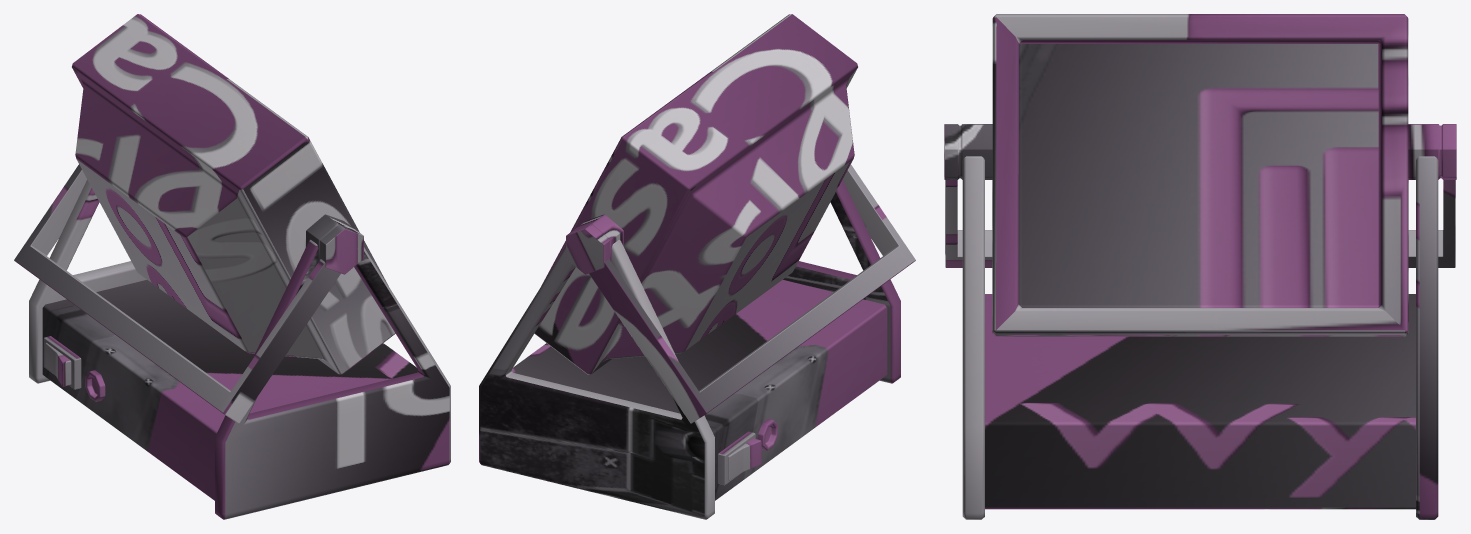
Rendered from SM_FloorFloodLight.fbx.
3 renders of one model, left to right at view 1: azimuth 30°, elevation 25°; view 2: azimuth 150°, elevation 25°; view 3: azimuth 270°, elevation 25°, orthographic. The views are drawn at different scales.
Visible parts, largest first — view 1: Flood Lamp, Flood Lamp - battery compartment, Flood Lamp - handle, Flood Lamp - switch and outlet; view 2: Flood Lamp, Flood Lamp - battery compartment, Flood Lamp - handle, Flood Lamp - switch and outlet; view 3: Flood Lamp, Flood Lamp - battery compartment, Flood Lamp - handle.
Boxes of the visible parts, bbox=[...] form: Flood Lamp: bbox=[29, 14, 450, 519]; Flood Lamp - battery compartment: bbox=[42, 280, 418, 500]; Flood Lamp - handle: bbox=[14, 164, 363, 423]; Flood Lamp - switch and outlet: bbox=[43, 336, 105, 401]; Flood Lamp: bbox=[479, 14, 900, 519]; Flood Lamp - battery compartment: bbox=[511, 280, 887, 500]; Flood Lamp - handle: bbox=[566, 164, 915, 423]; Flood Lamp - switch and outlet: bbox=[718, 419, 777, 485]; Flood Lamp: bbox=[962, 14, 1438, 519]; Flood Lamp - battery compartment: bbox=[985, 294, 1415, 509]; Flood Lamp - handle: bbox=[944, 124, 1456, 267].
Size of the model in its own units: 18.86 by 28.69 by 26.44.
